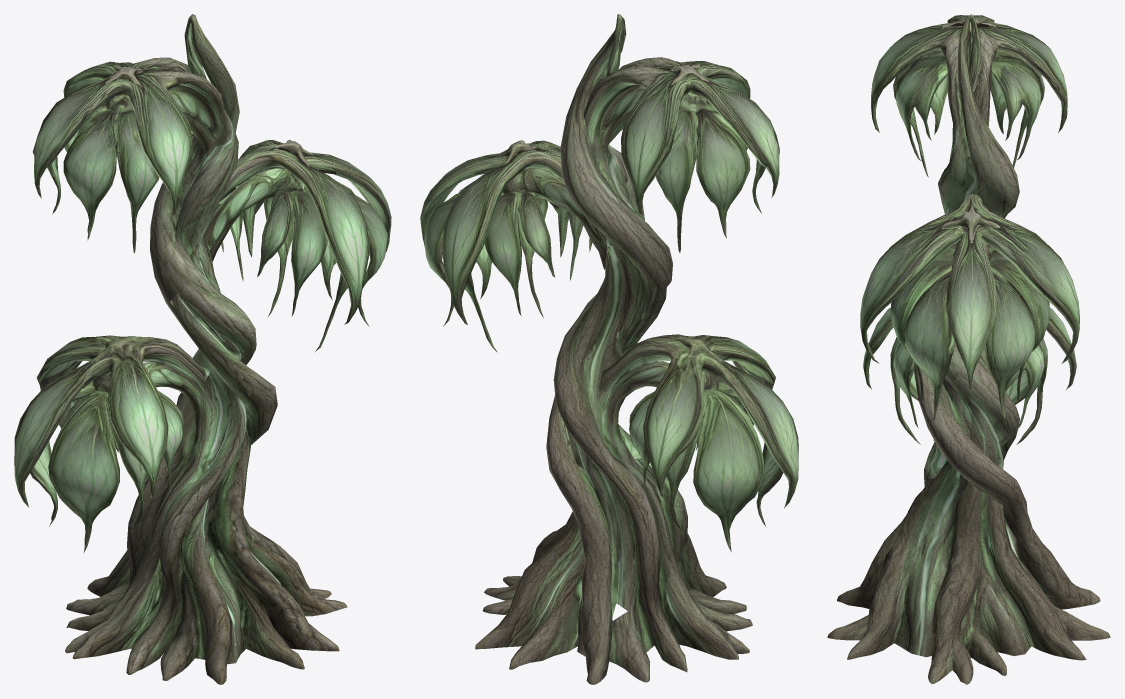
The model's file is alien-tree-spire.glb.
The picture shows the model from 3 angles, left to right: view 1: azimuth 30°, elevation 25°; view 2: azimuth 150°, elevation 25°; view 3: azimuth 270°, elevation 25°; orthographic projection.
Parts seen in each view (by area): view 1: mesh_node; view 2: mesh_node; view 3: mesh_node.
Part boxes in pixels (bbox=[...]): mesh_node: bbox=[14, 14, 391, 684]; mesh_node: bbox=[420, 14, 798, 684]; mesh_node: bbox=[827, 14, 1110, 684].
Size of the model in its own units: 0.6367 by 1 by 0.4248.
1 material, 1 textured.
